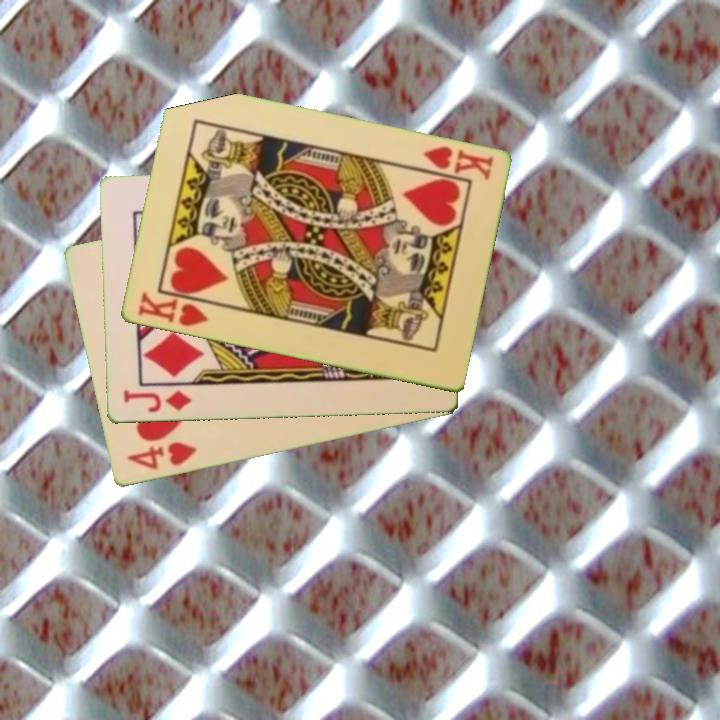4h: (123, 439, 199, 473)
Jd: (119, 387, 195, 416)
Kh: (134, 288, 217, 330), (414, 142, 496, 184)
